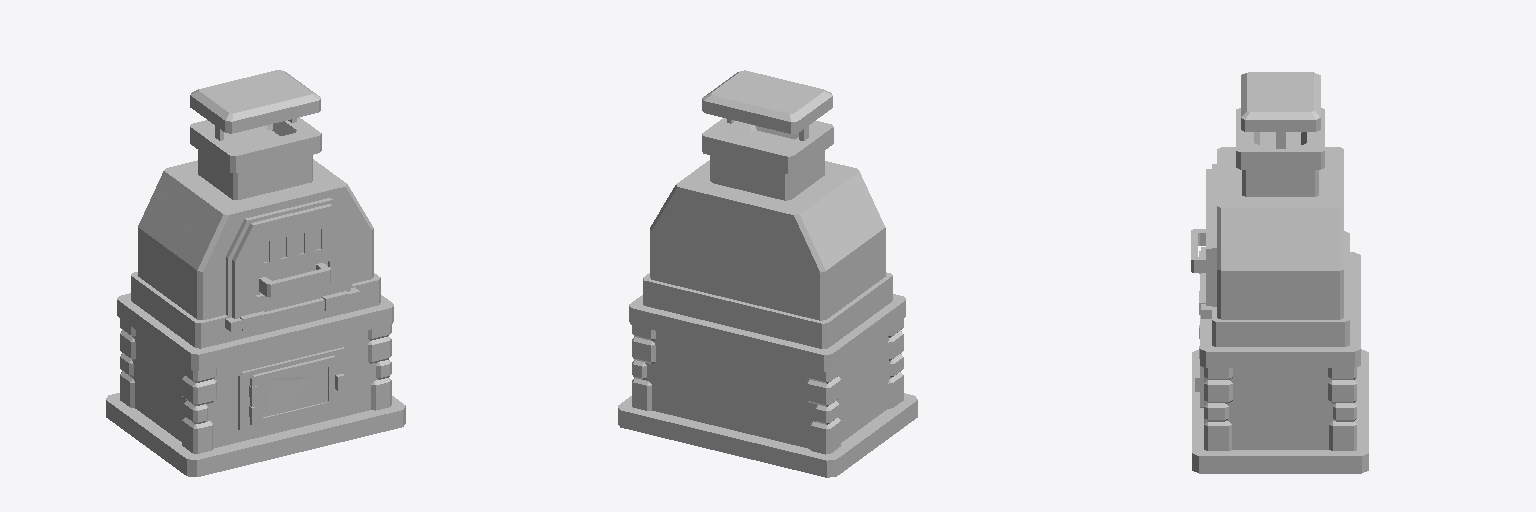
The model's file is gdOven.obj.
3 renders of one model, left to right at view 1: azimuth 30°, elevation 25°; view 2: azimuth 150°, elevation 25°; view 3: azimuth 270°, elevation 25°, orthographic.
Visible parts, largest first — view 1: gdOven, gdOven_LidUp, gdOven_LidDown; view 2: gdOven; view 3: gdOven, gdOven_LidUp.
Boxes of the visible parts, x1=… form: gdOven: x1=106, y1=70, x2=405, y2=476; gdOven_LidUp: x1=225, y1=204, x2=359, y2=331; gdOven_LidDown: x1=249, y1=355, x2=344, y2=427; gdOven: x1=618, y1=70, x2=917, y2=477; gdOven: x1=1192, y1=72, x2=1368, y2=473; gdOven_LidUp: x1=1191, y1=169, x2=1211, y2=318.
Bounding box in the file's own units: 5.08 × 7.27 × 3.58.